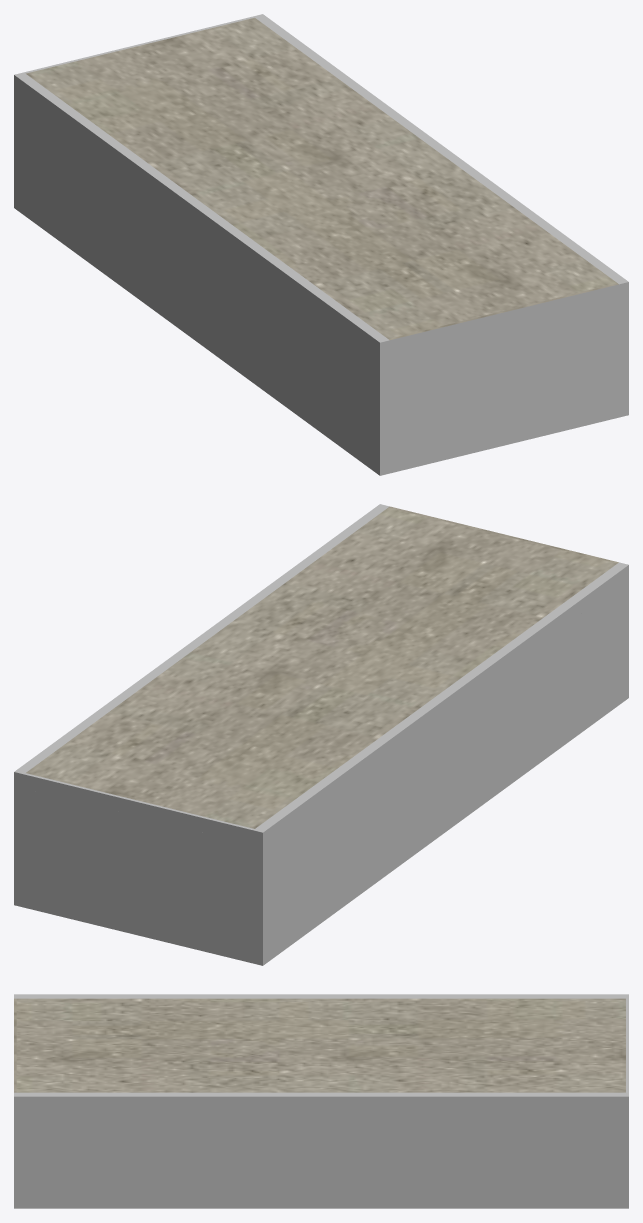
The model's file is road_w02d.fbx.
3 views of the same model, one above another, from view 1: azimuth 30°, elevation 25°; view 2: azimuth 150°, elevation 25°; view 3: azimuth 270°, elevation 25° (orthographic). The views are drawn at different scales.
Parts seen in each view (by area): view 1: road_w02d; view 2: road_w02d; view 3: road_w02d.
Part boxes in pixels (bbox=[...]): road_w02d: bbox=[14, 14, 628, 475]; road_w02d: bbox=[14, 504, 628, 965]; road_w02d: bbox=[14, 994, 628, 1208].
Size of the model in its own units: 4.34 by 2.22 by 11.06.
